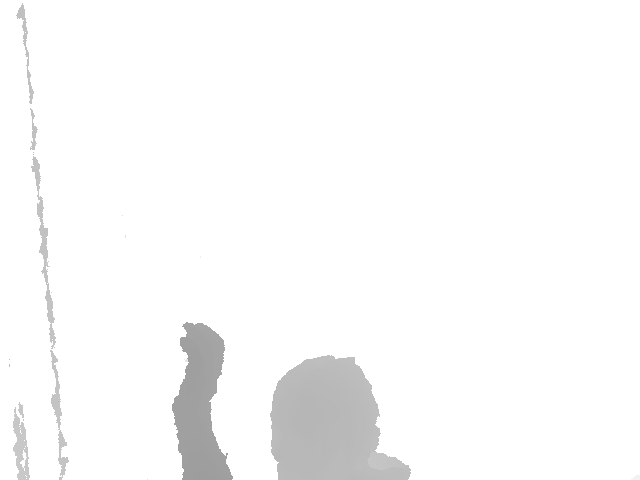hand: (172, 322, 226, 418)
head: (269, 354, 381, 480)
person: (172, 322, 412, 480)
